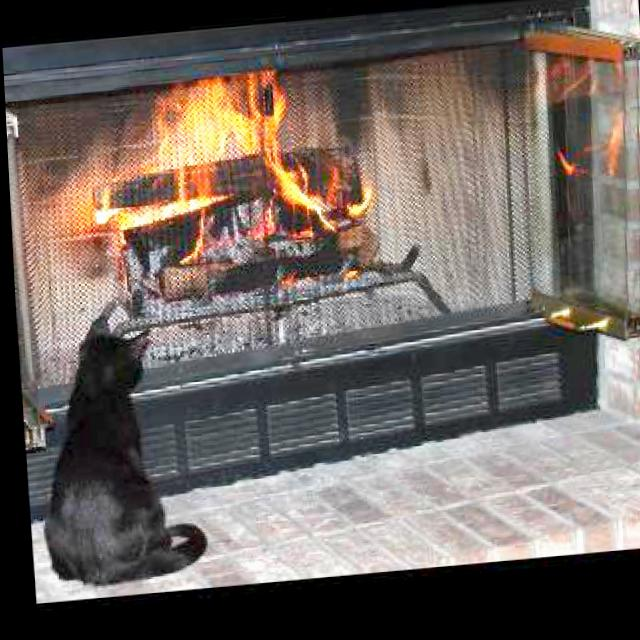helmet: (91, 60, 377, 303)
